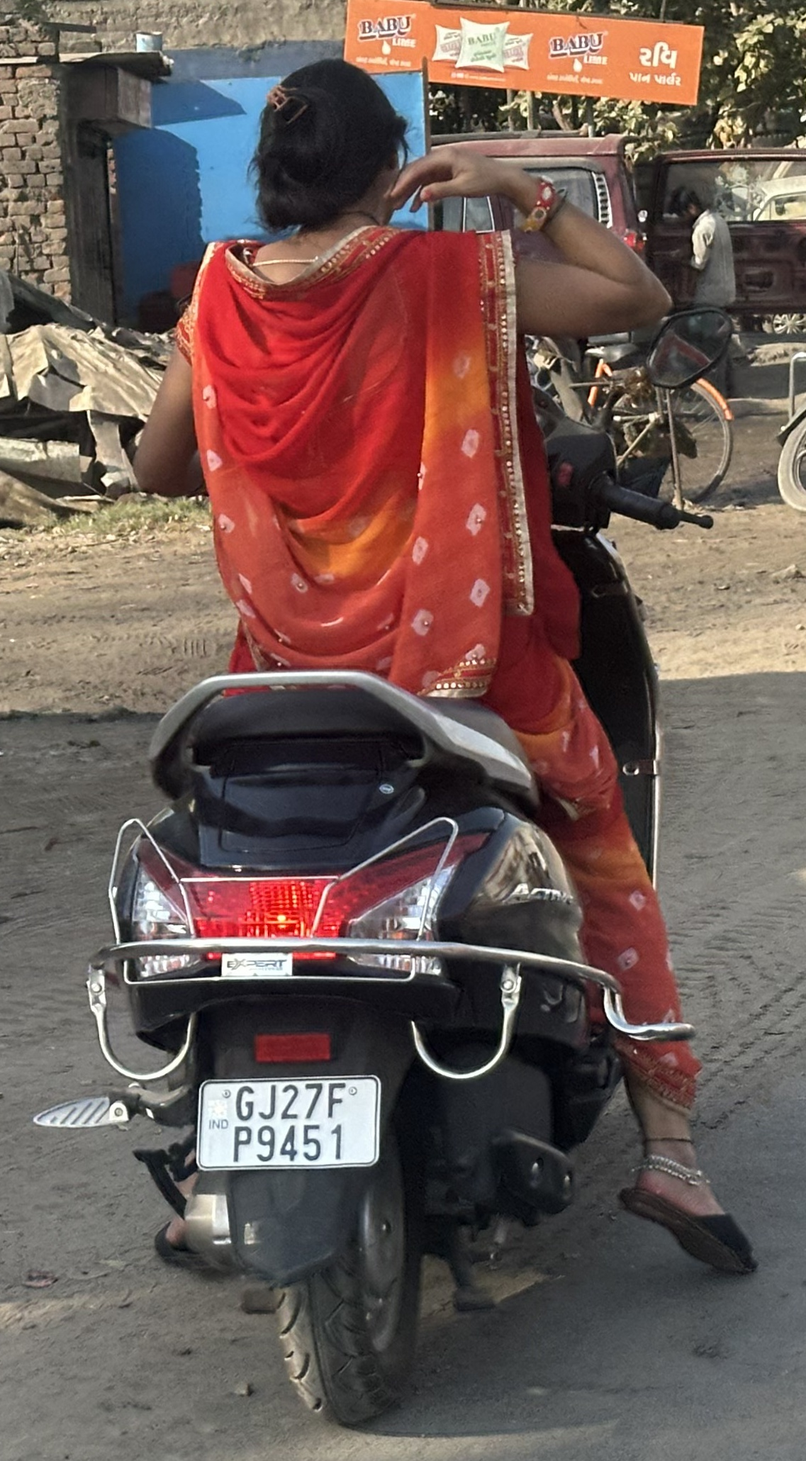BikeWithRider: (23, 47, 770, 1443)
NoHelmet: (228, 47, 437, 243)
